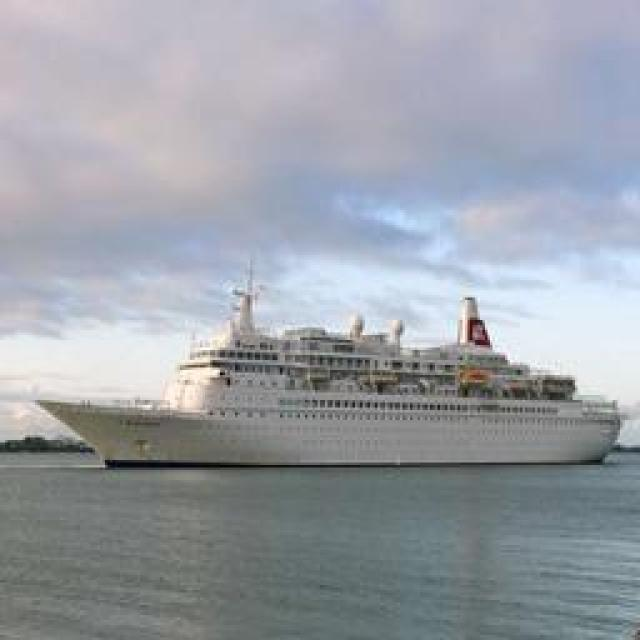CIV_Ship: (18, 271, 612, 471)
